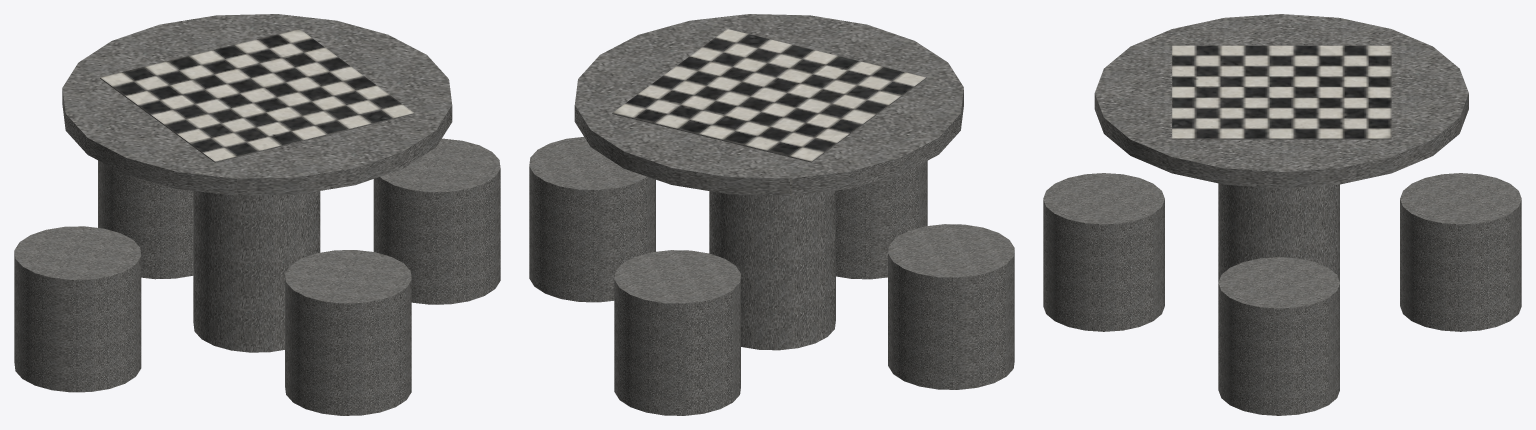
Rendered from hdb seats.fbx.
3 renders of one model, left to right at view 1: azimuth 30°, elevation 25°; view 2: azimuth 150°, elevation 25°; view 3: azimuth 270°, elevation 25°, orthographic. The views are drawn at different scales.
Parts seen in each view (by area): view 1: pCylinder19; view 2: pCylinder19; view 3: pCylinder19.
Boxes of the visible parts, <box> form: pCylinder19: <box>14,14,500,415</box>; pCylinder19: <box>529,14,1014,415</box>; pCylinder19: <box>1043,14,1521,415</box>.
Size of the model in its own units: 2.77 by 1.29 by 2.56.
1 material, 1 textured.
